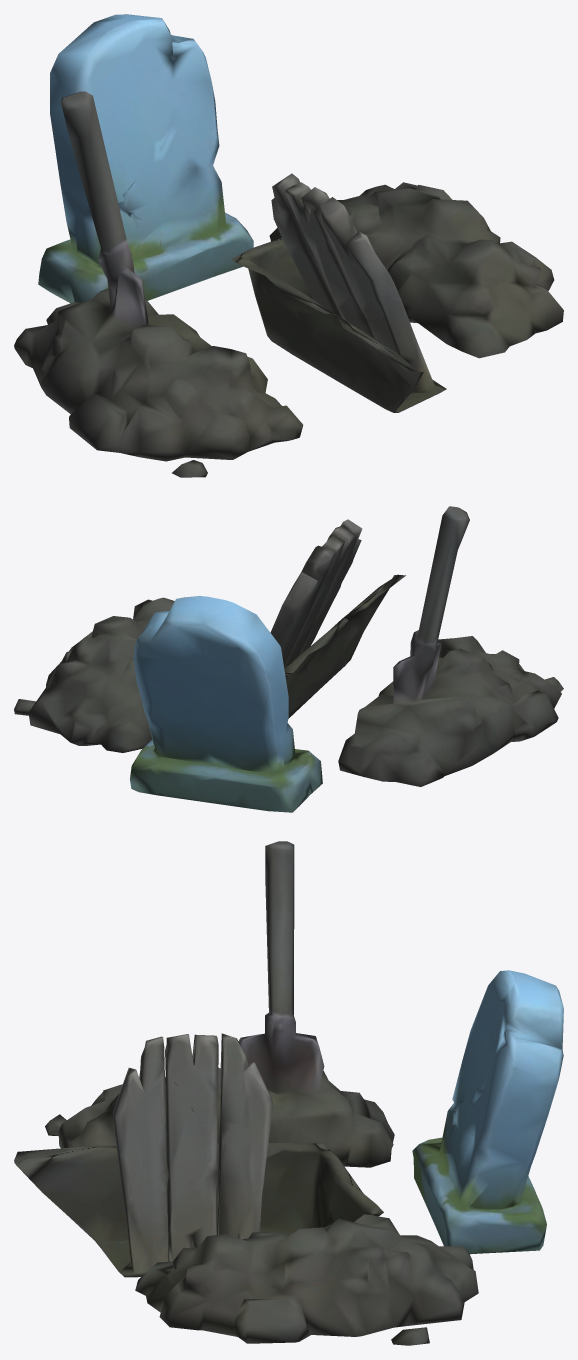
Rendered from gy_dug-BBWhF3UH.glb.
The picture shows the model from 3 angles, top to bottom: view 1: azimuth 30°, elevation 25°; view 2: azimuth 150°, elevation 25°; view 3: azimuth 270°, elevation 25°; orthographic projection. The views are drawn at different scales.
Visible parts, largest first — view 1: tripo_node_c1abf9d8-6bd5-40d6-99f3-188bcbbf80ef; view 2: tripo_node_c1abf9d8-6bd5-40d6-99f3-188bcbbf80ef; view 3: tripo_node_c1abf9d8-6bd5-40d6-99f3-188bcbbf80ef.
Part boxes in pixels (bbox=[...]): tripo_node_c1abf9d8-6bd5-40d6-99f3-188bcbbf80ef: bbox=[14, 14, 563, 477]; tripo_node_c1abf9d8-6bd5-40d6-99f3-188bcbbf80ef: bbox=[14, 506, 563, 812]; tripo_node_c1abf9d8-6bd5-40d6-99f3-188bcbbf80ef: bbox=[14, 841, 563, 1345].
Bounding box in the file's own units: 1 × 0.5912 × 0.9592.
Materials: 1 (1 with a texture image).
